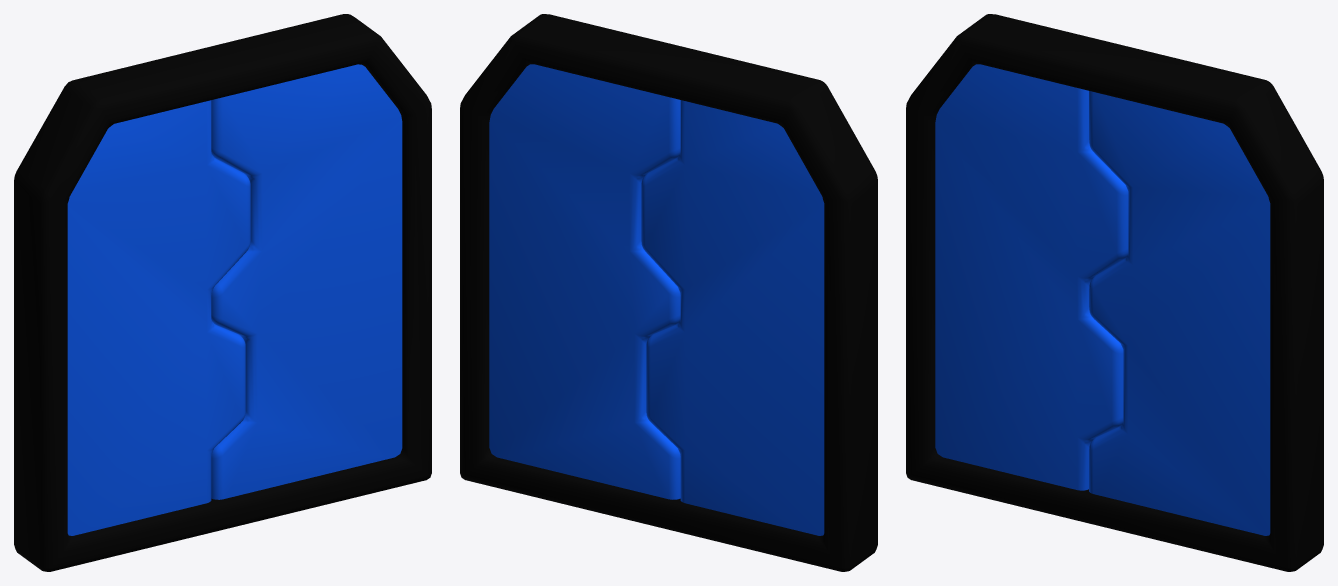
File: LevelRework_Door1_Frame.fbx
3 renders of one model, left to right at view 1: azimuth 30°, elevation 25°; view 2: azimuth 150°, elevation 25°; view 3: azimuth 330°, elevation 25°, orthographic.
Parts seen in each view (by area): view 1: Door1_Metal, Door1_Frame, Door1_Metal.001; view 2: Door1_Metal, Door1_Frame, Door1_Metal.001; view 3: Door1_Metal.001, Door1_Frame, Door1_Metal.
Boxes of the visible parts, x1,y1,x2,y2 form: Door1_Metal: (211, 64, 402, 499); Door1_Frame: (14, 14, 431, 571); Door1_Metal.001: (67, 100, 250, 535); Door1_Metal: (489, 64, 680, 499); Door1_Frame: (460, 14, 877, 571); Door1_Metal.001: (641, 100, 824, 535); Door1_Metal.001: (935, 64, 1128, 490); Door1_Frame: (906, 14, 1323, 571); Door1_Metal: (1089, 91, 1270, 535).
Size of the model in its own units: 96.37 by 109 by 14.34.
